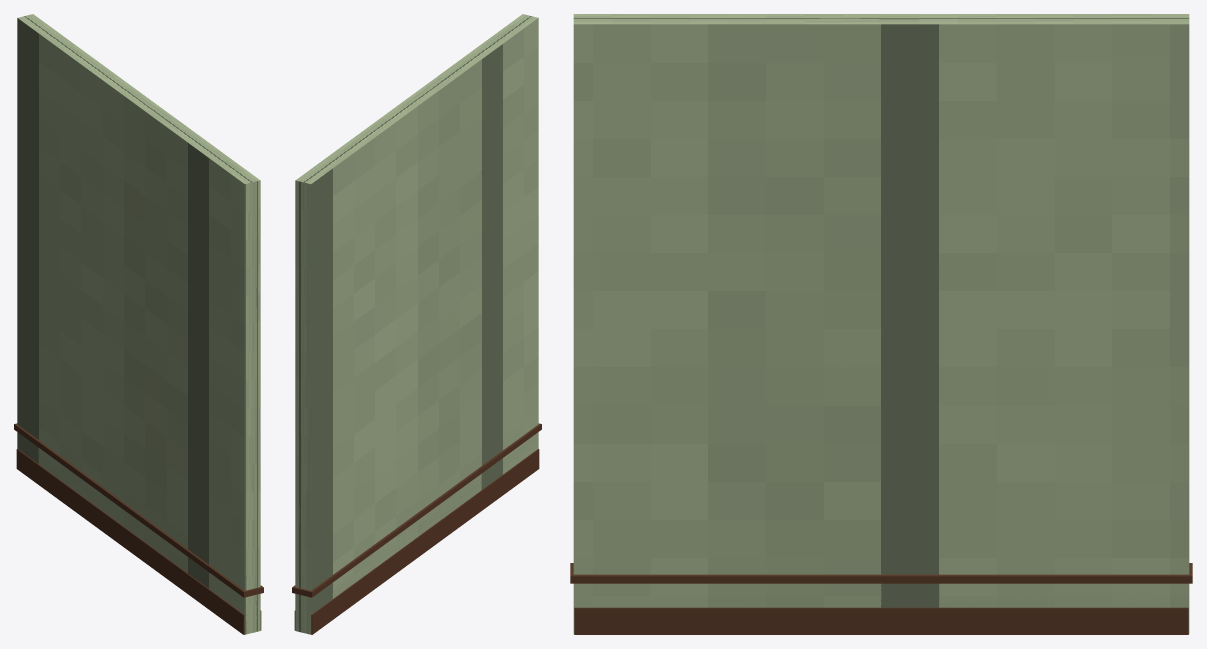
Rendered from stair_side.glb.
The picture shows the model from 3 angles, left to right: view 1: azimuth 30°, elevation 25°; view 2: azimuth 150°, elevation 25°; view 3: azimuth 270°, elevation 25°; orthographic projection. The views are drawn at different scales.
Parts seen in each view (by area): view 1: Box1, Box2, Box4, Box3; view 2: Box1, Box2, Box3, Box4; view 3: Box1, Box2, Box4, Box3.
Boxes of the visible parts, x1,y1,x2,y2 form: Box1: (17, 14, 260, 634); Box2: (16, 449, 261, 634); Box4: (14, 423, 263, 597); Box3: (17, 432, 260, 633); Box1: (295, 14, 538, 634); Box2: (294, 449, 539, 634); Box3: (295, 432, 538, 633); Box4: (292, 423, 541, 597); Box1: (573, 14, 1189, 633); Box2: (574, 607, 1188, 634); Box4: (570, 563, 1192, 583); Box3: (573, 583, 1188, 619).
Size of the model in its own units: 0.19 by 4.1 by 3.79.
Materials: 2 (1 with a texture image).
